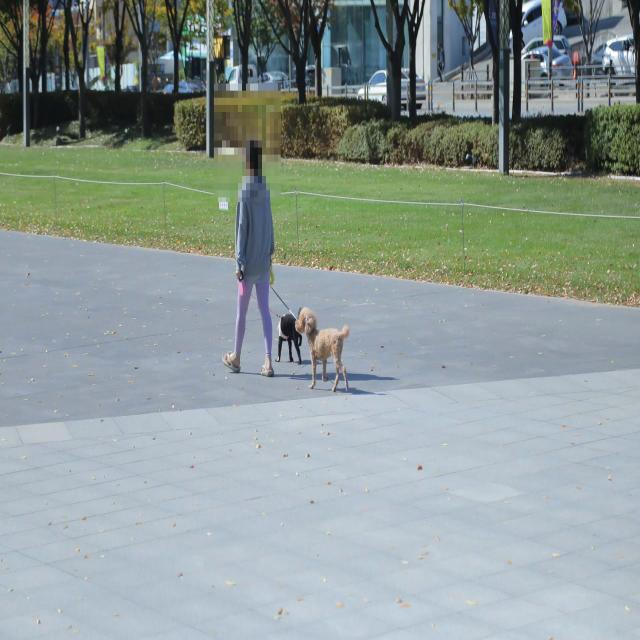Leashed_Dog: (263, 282, 351, 394), (261, 300, 303, 364)
